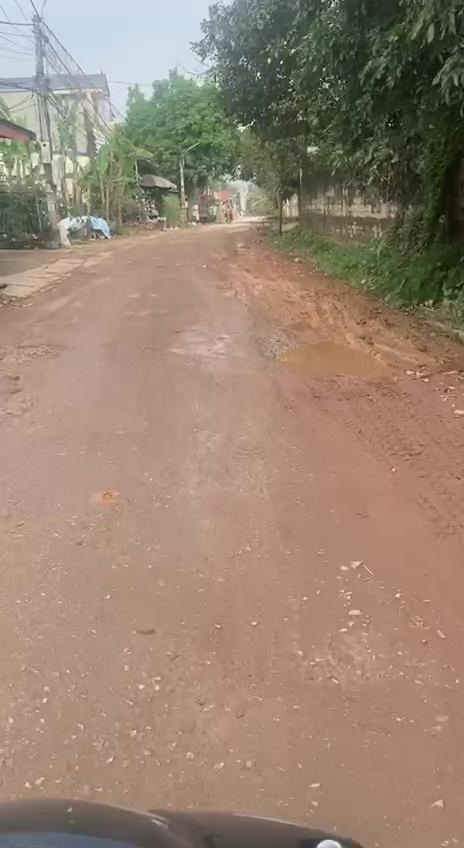pothole: (266, 335, 388, 382), (0, 339, 74, 365)
